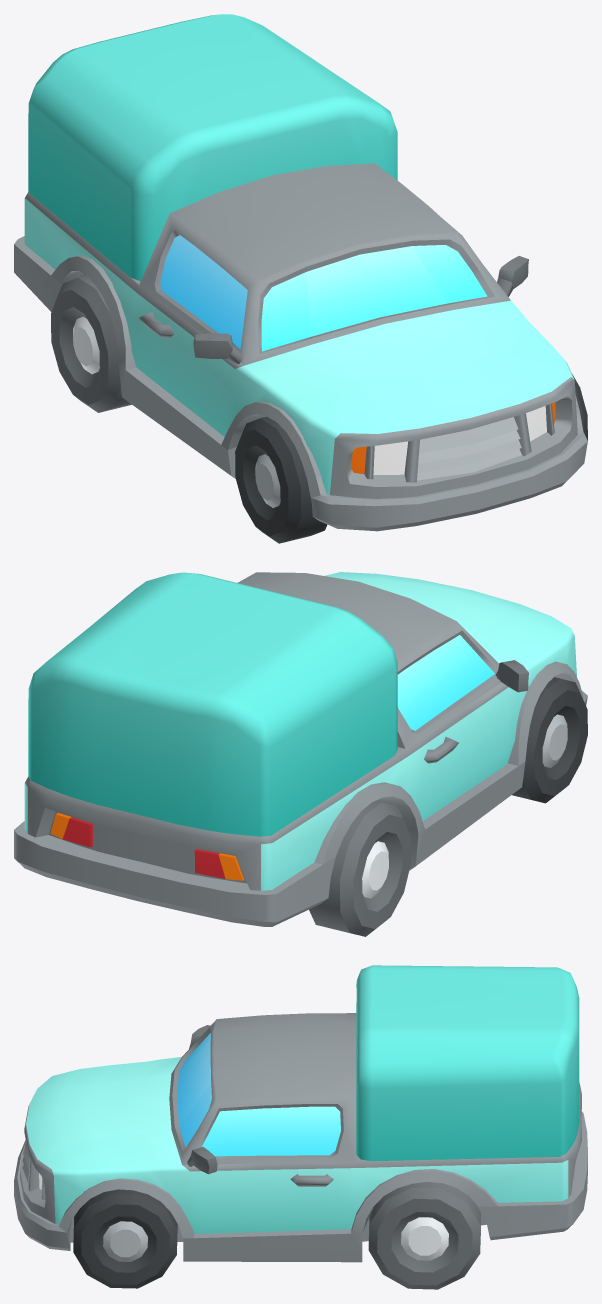
Rendered from Car_34.glb.
3 views of the same model, one above another, from view 1: azimuth 30°, elevation 25°; view 2: azimuth 150°, elevation 25°; view 3: azimuth 270°, elevation 25° (orthographic). The views are drawn at different scales.
Visible parts, largest first — view 1: Car_34, Wheel_050, Wheel_049; view 2: Car_34, Wheel_049, Wheel_050; view 3: Car_34, Wheel_052, Wheel_051.
Boxes of the visible parts, x1,y1,x2,y2 form: Car_34: [14, 14, 587, 531]; Wheel_050: [235, 416, 327, 543]; Wheel_049: [51, 275, 131, 412]; Car_34: [14, 572, 587, 926]; Wheel_049: [309, 801, 411, 936]; Wheel_050: [512, 677, 587, 803]; Car_34: [14, 965, 587, 1262]; Wheel_052: [368, 1182, 480, 1289]; Wheel_051: [73, 1189, 177, 1288].
Bounding box in the file's own units: 2.49 × 2.01 × 4.46.
2 materials, 2 textured.
